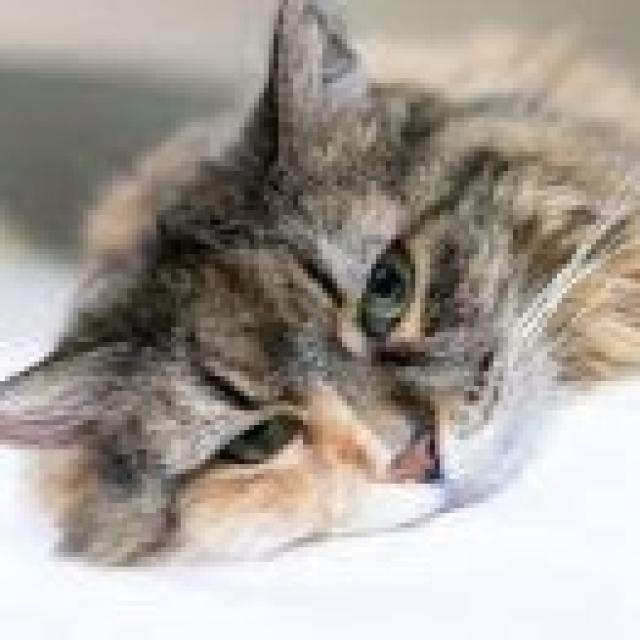Sad: (138, 211, 468, 541)
